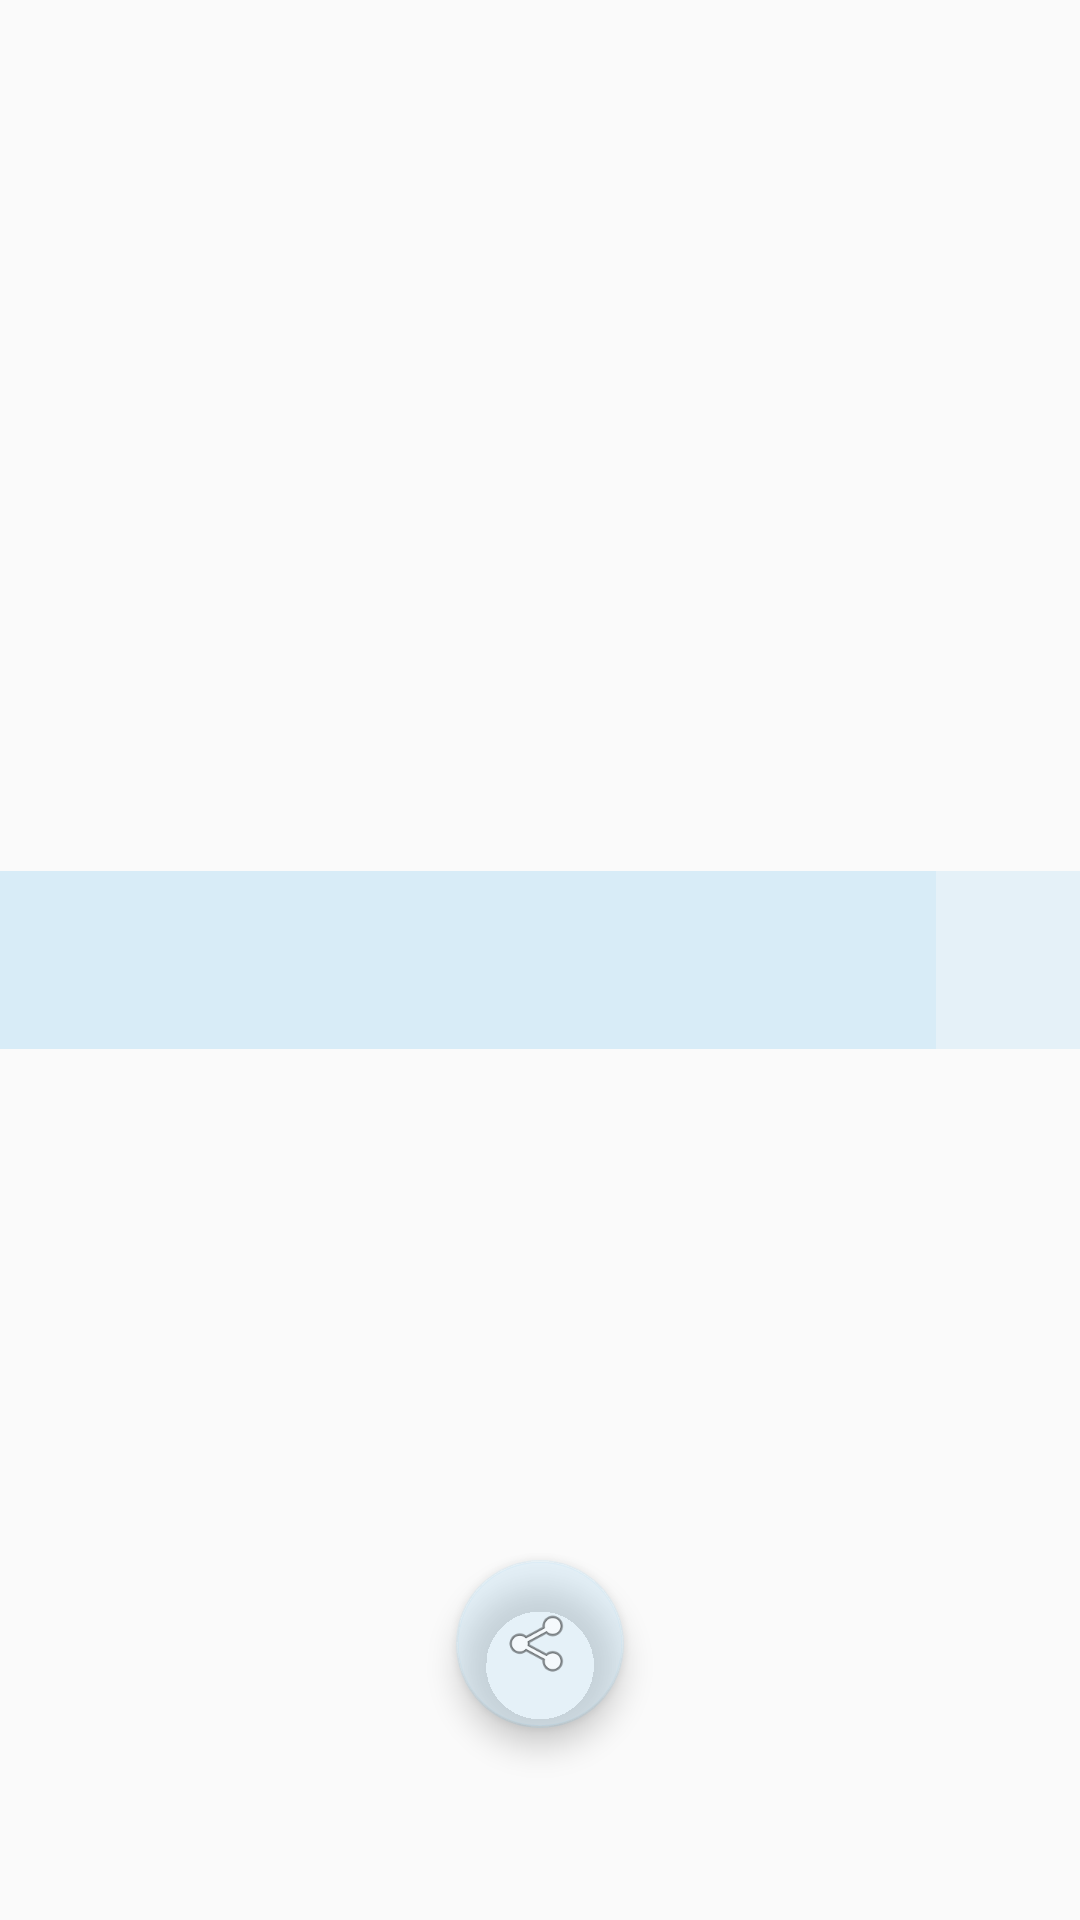

Icons on this 1080x1920 Android screen, each with its box as (x1, y1, x2, y2):
share: (456, 1562, 624, 1728)
